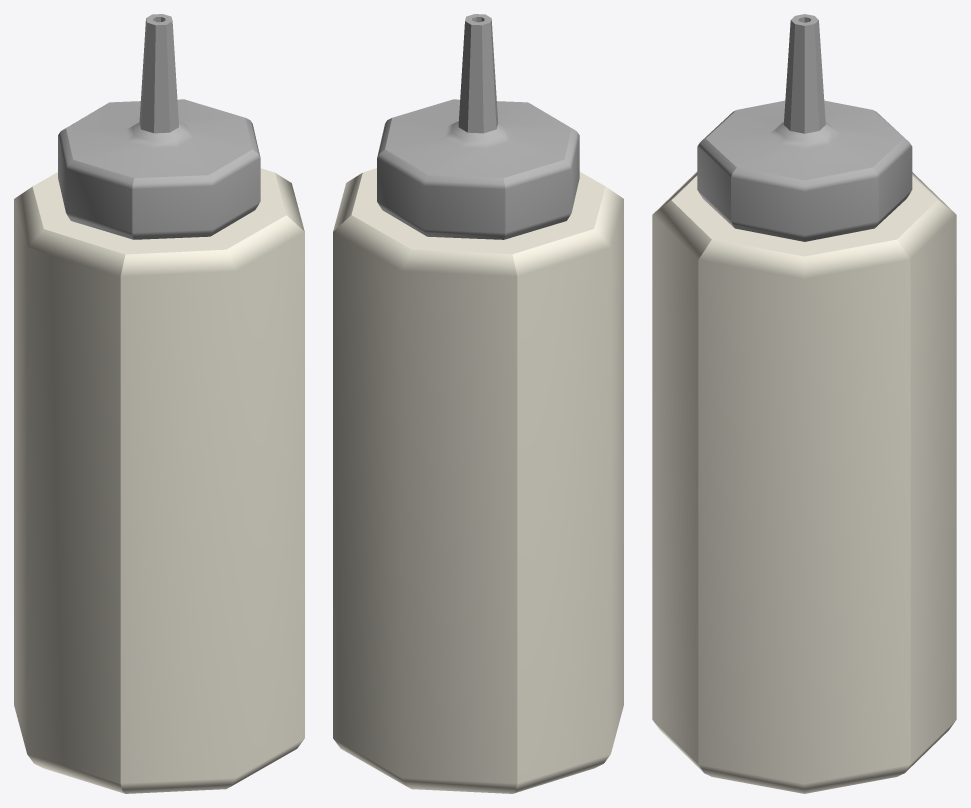
The model's file is Mayonnaise Bottle.fbx.
3 renders of one model, left to right at view 1: azimuth 30°, elevation 25°; view 2: azimuth 150°, elevation 25°; view 3: azimuth 270°, elevation 25°, orthographic.
Visible parts, largest first — view 1: Bottle, BottleCap; view 2: Bottle, BottleCap; view 3: Bottle, BottleCap.
Part boxes in pixels (left/top/right/bottom): Bottle: left=14, top=168, right=304, bottom=793; BottleCap: left=58, top=14, right=260, bottom=239; Bottle: left=333, top=168, right=623, bottom=793; BottleCap: left=377, top=14, right=579, bottom=239; Bottle: left=652, top=171, right=956, bottom=793; BottleCap: left=697, top=14, right=912, bottom=241.
Bounding box in the file's own units: 66.14 × 172 × 66.14.
Materials: 2 (1 with a texture image).
